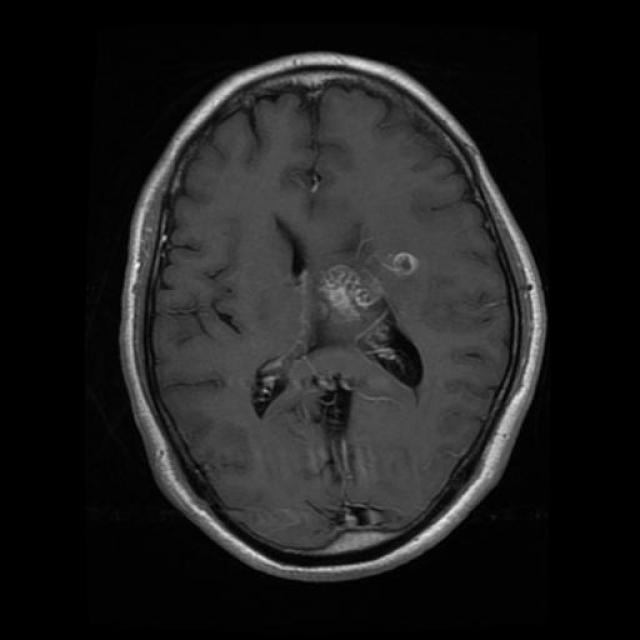glioma: (310, 255, 432, 388), (384, 251, 422, 279)
